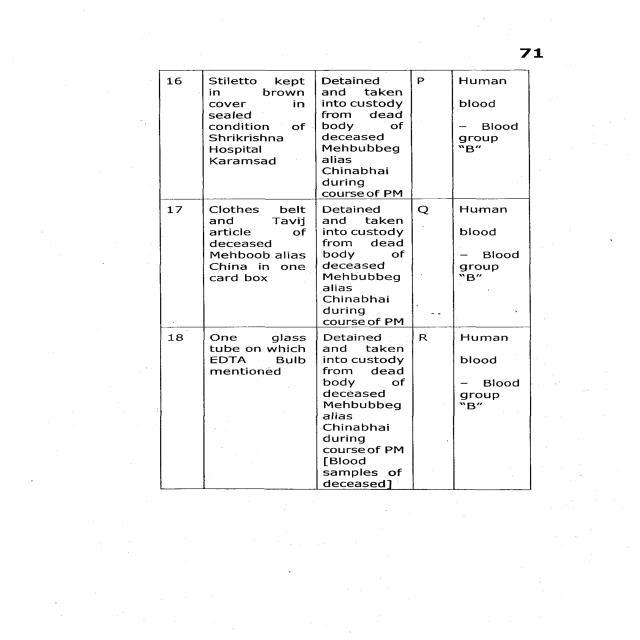page-number: (404, 0, 640, 67)
